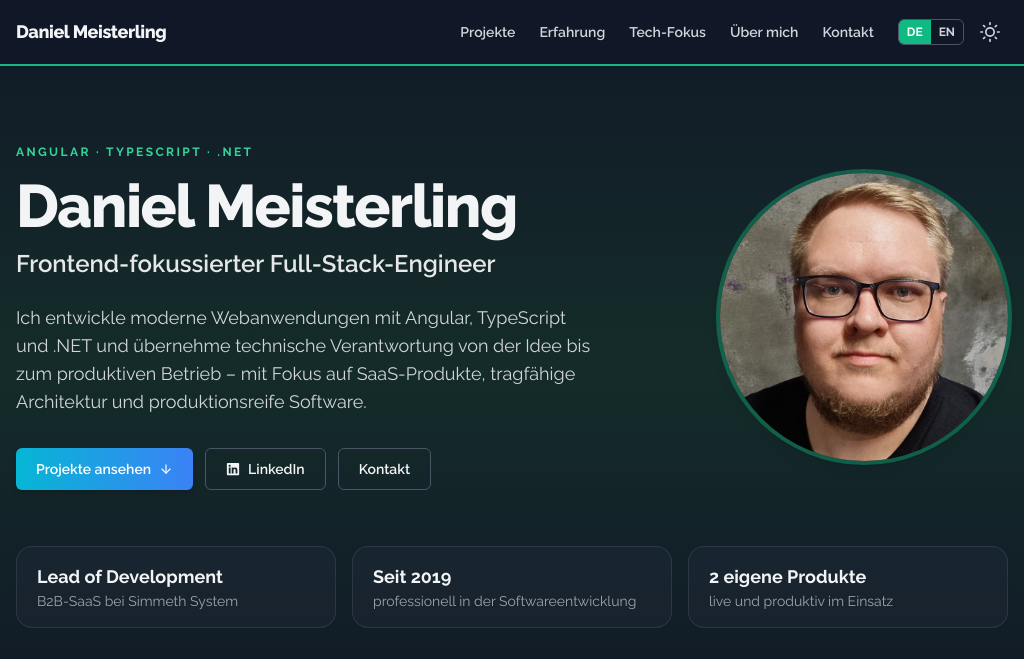
Test: switches the language to English and back
The width and height of the screenshot is (1024, 659).
What coordinates should you click on to do the following:
click the button "en"
I would click on:
 (947, 32)
Its box is [931, 20, 963, 44].
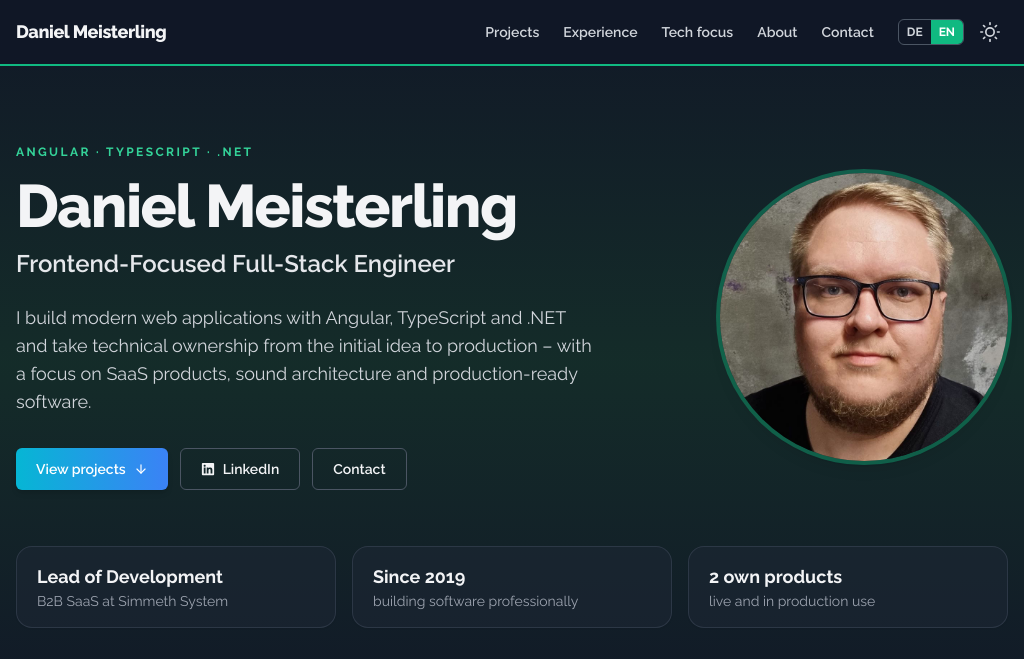
What coordinates should you click on to do the following:
click the button "de"
I would click on:
 (915, 32)
Its box is [899, 20, 931, 44].
(page scrolled)
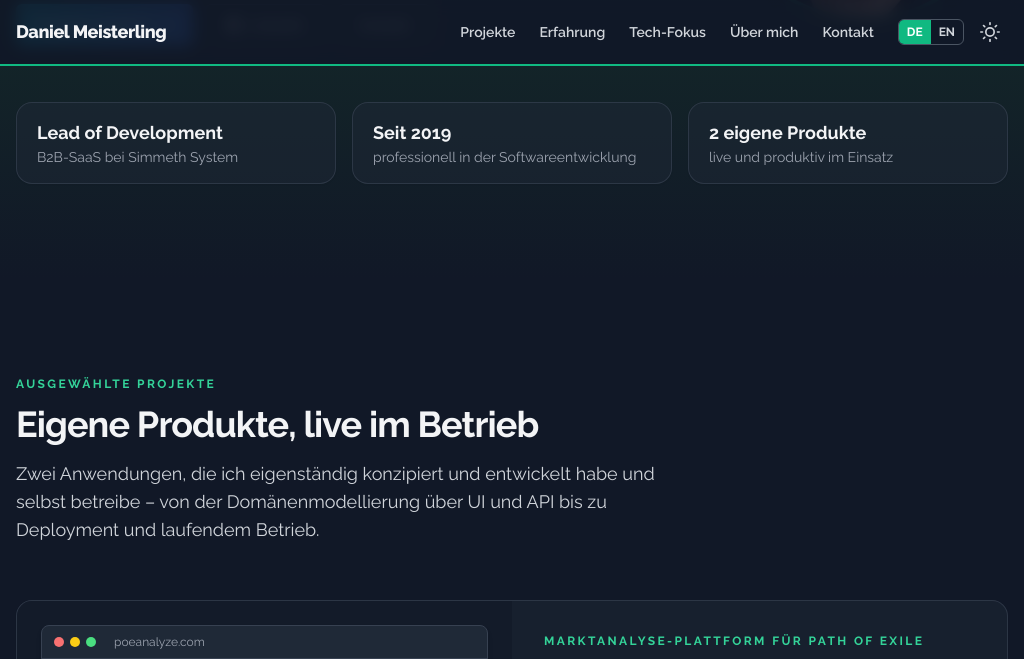
Now the text "Ausgewählte Projekte" is shown, box [16, 377, 216, 391]
